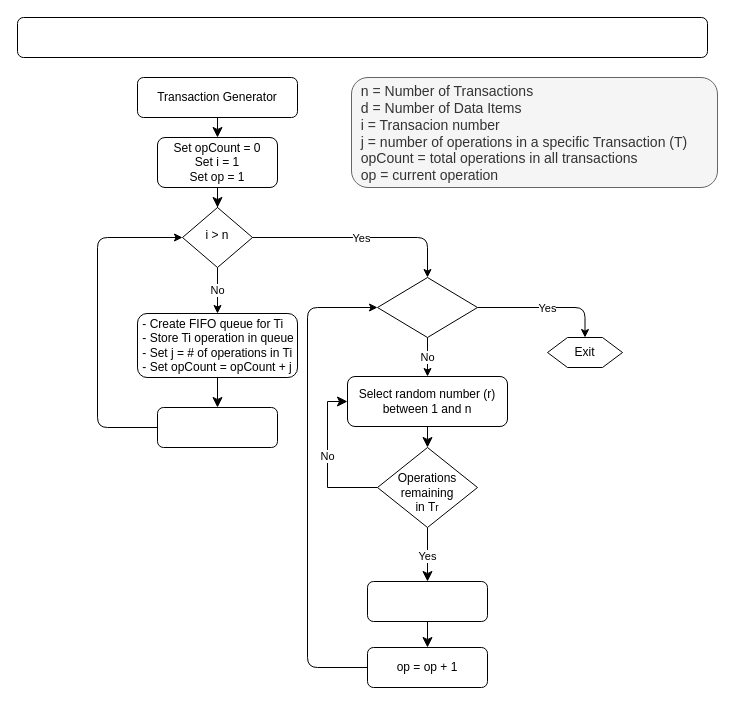
Some shapes in this 735 by 705 pixel diagram are drawn without their labels. Each missing label, with the centre of its shape:
"i = i + 1" belongs at point (217, 427).
"op > opCount" belongs at point (427, 307).
"Sent next operation from Tr to Scheduler" belongs at point (427, 601).
"Transaction Manager" belongs at point (362, 37).
